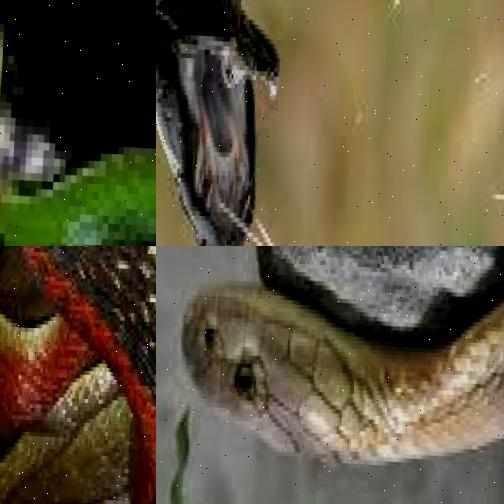snake: (156, 246, 504, 504), (0, 246, 156, 504), (0, 0, 156, 246), (156, 0, 302, 246)
